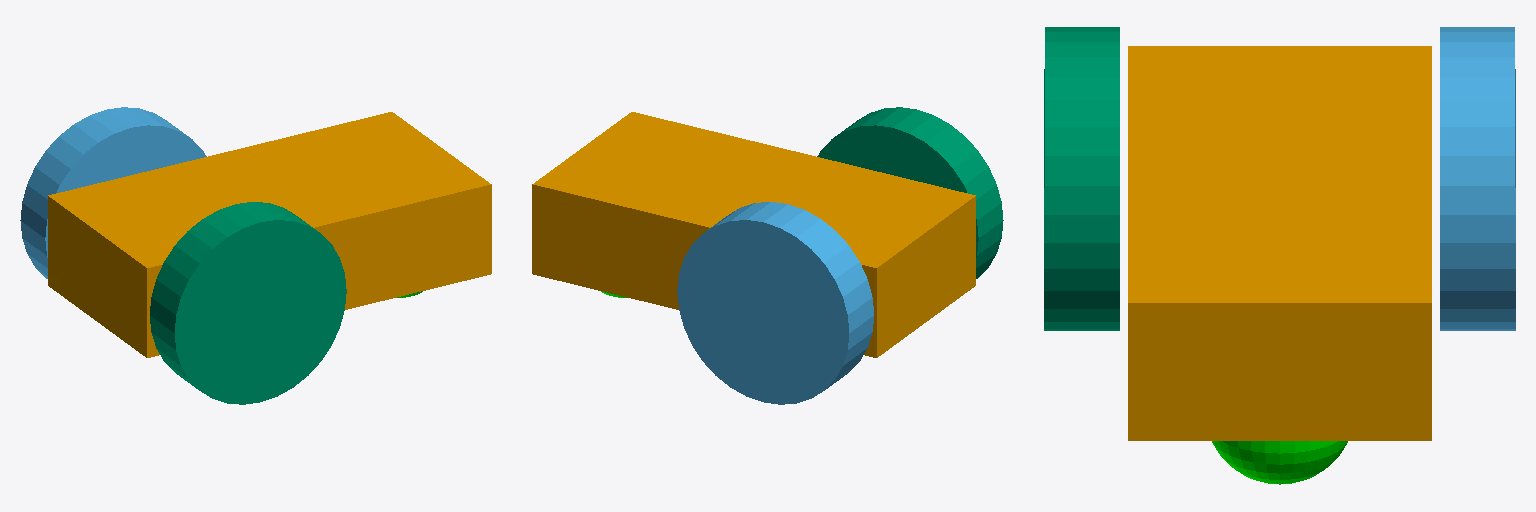
URDF robot description (my_robo):
<?xml version="1.0"?>
<robot name="my_robo" >
  <property name="M_PI" value="3.14159274"/>

  <link name="base_link">

    <visual>
      <geometry>
        <box size="0.400 0.200 0.100"/>
      </geometry>
    </visual>

    <collision>
      <geometry>
        <box size="0.400 0.200 0.100"/>
      </geometry>
    </collision>

    <inertial>
      <origin xyz="0 0 0"/>
      <mass value="0.500"/>
      <inertia ixx="0.0020833333" ixy="0" ixz="0" iyy="0.0070833333" iyz="0" izz="0.0083333333"/>
    </inertial>
  </link>

  <link name="left_wheel_link">
    <visual>
      <geometry>
        <cylinder radius="0.1" length="0.05"/>
      </geometry>
      <origin xyz="0 0 0" rpy="0 0 0"/>
      <material name="black"/>
    </visual>

    <collision>
      <geometry>
        <cylinder radius="0.1" length="0.05"/>
      </geometry>
    </collision>

    <inertial>
      <origin xyz="0 0 0"/>
      <mass value="0.500"/>
      <inertia ixx="0.0013541667" ixy="0" ixz="0" iyy="0.0013541667" iyz="0" izz="0.0025"/>
    </inertial>

  </link>

  <joint name="left_wheel_joint" type="continuous">
    <parent link="base_link"/>
    <child link="left_wheel_link"/>
    <origin rpy="-1.5707 0 0" xyz="-0.100 0.130 0"/>
    <axis xyz="0 0 1"/>
  </joint>

  <link name="right_wheel_link">
    <visual>
      <geometry>
        <cylinder radius="0.1" length="0.05"/>
      </geometry>
      <origin xyz="0 0 0" rpy="0 0 0"/>
      <material name="black"/>
    </visual>

    <collision>
      <geometry>
        <cylinder radius="0.1" length="0.05"/>
      </geometry>
    </collision>

    <inertial>
      <origin xyz="0 0 0"/>
      <mass value="0.500"/>
      <inertia ixx="0.0013541667" ixy="0" ixz="0" iyy="0.0013541667" iyz="0" izz="0.0025"/>
    </inertial>

  </link>

  <joint name="right_wheel_joint" type="continuous">
    <parent link="base_link"/>
    <child link="right_wheel_link"/>
    <origin rpy="1.5707 0 0" xyz="-0.100 -0.130 0"/>
    <axis xyz="0 0 -1"/>
  </joint>

  <link name="caster_link">
    <visual>
      <geometry>
        <sphere radius="0.05"/>
      </geometry>
      <material name="green">
        <color rgba="0 1 0 1"/>
      </material>
    </visual>

    <collision>
      <geometry>
        <sphere radius="0.05"/>
      </geometry>
    </collision>

    <inertial>
      <origin xyz="0 0 0"/>
      <mass value="0.500"/>
      <inertia ixx="0.00025" ixy="0" ixz="0" iyy="0.00025"  iyz="0" izz="0.00025"/>
    </inertial>

  </link>

  <joint name="caster_joint" type="fixed">
    <parent link="base_link"/>
    <child link="caster_link"/>
    <origin xyz="0.150 0 -0.050"/>
  </joint>

  <link name="base_footprint"/>
  <joint name="base_link_joint" type="fixed">
    <parent link="base_footprint"/>
    <child link="base_link"/>
    <origin xyz="0 0 0.100"/>
  </joint>

  <!-- Hokuyo Laser -->
  <link name="hokuyo_link">
    <collision>
      <origin xyz="0 0 0" rpy="0 0 0"/>
      <geometry>
        <box size="0.1 0.1 0.1"/>
      </geometry>
    </collision>

    <visual>
      <origin xyz="0 0 0" rpy="0 0 0"/>
      <geometry>
        <mesh filename="package://rrbot_description/meshes/hokuyo.dae"/>
      </geometry>
    </visual>

    <inertial>
      <mass value="1e-5" />
      <origin xyz="0 0 0" rpy="0 0 0"/>
      <inertia ixx="1e-6" ixy="0" ixz="0" iyy="1e-6" iyz="0" izz="1e-6" />
    </inertial>
  </link>
  <joint name="hokuyo_joint" type="fixed">
    <axis xyz="0 1 0" />
    <origin xyz="0.2 0 0.07" rpy="0 0 0"/>
    <parent link="base_link"/>
    <child link="hokuyo_link"/>
  </joint>


  <!-- ===============  Transmission =============== -->
  <transmission name="left_wheel_trans">
    <type>transmission_interface/SimpleTransmission</type>
    <joint name="left_wheel_joint">
      <hardwareInterface>VelocityJointInterface</hardwareInterface>
    </joint>
    <actuator name="left_wheel_motor">
      <hardwareInterface>VelocityJointInterface</hardwareInterface>
      <mechanicalReduction>30</mechanicalReduction>
    </actuator>
  </transmission>
  <transmission name="right_wheel_trans">
    <type>transmission_interface/SimpleTransmission</type>
    <joint name="right_wheel_joint">
      <hardwareInterface>VelocityJointInterface</hardwareInterface>
    </joint>
    <actuator name="right_wheel_motor">
      <hardwareInterface>VelocityJointInterface</hardwareInterface>
      <mechanicalReduction>30</mechanicalReduction>
    </actuator>
  </transmission>

  <!-- =============== Gazebo =============== -->
  <gazebo>
    <plugin name="gazebo_ros_control" filename="libgazebo_ros_control.so">
      <robotNamespace>my_robo</robotNamespace>
    </plugin>
  </gazebo>

  <gazebo reference="base_link">
    <selfCollide>true</selfCollide>
    <mu1 value="0.05" />
    <mu2 value="0.05" />
  </gazebo>

  <gazebo reference="left_wheel_link">
    <selfCollide>true</selfCollide>
    <mu1 value="0.8" />
    <mu2 value="0.8" />
  </gazebo>

  <gazebo reference="right_wheel_link">
    <selfCollide>true</selfCollide>
    <mu1 value="0.8" />
    <mu2 value="0.8" />
  </gazebo>

  <gazebo reference="caster_link">
    <selfCollide>true</selfCollide>
    <!-- This caster is no frictional resistance. -->
    <mu1 value="0.0" />
    <mu2 value="0.0" />
  </gazebo>

  <!-- hokuyo -->
  <gazebo reference="hokuyo_link">
    <sensor type="ray" name="head_hokuyo_sensor">
      <pose>0 0 0 0 0 0</pose>
      <visualize>true</visualize>
      <update_rate>40</update_rate>
      <ray>
        <scan>
          <horizontal>
            <samples>720</samples>
            <resolution>1</resolution>
            <min_angle>-1.570796</min_angle>
            <max_angle>1.570796</max_angle>
          </horizontal>
        </scan>
        <range>
          <min>0.10</min>
          <max>30.0</max>
          <resolution>0.01</resolution>
        </range>
        <noise>
          <type>gaussian</type>
          <!-- Noise parameters based on published spec for Hokuyo laser
               achieving "+-30mm" accuracy at range < 10m.  A mean of 0.0m and
               stddev of 0.01m will put 99.7% of samples within 0.03m of the true
               reading. -->
          <mean>0.0</mean>
          <stddev>0.01</stddev>
        </noise>
      </ray>
      <plugin name="gazebo_ros_head_hokuyo_controller" filename="libgazebo_ros_laser.so">
        <topicName>/rrbot/laser/scan</topicName>
        <frameName>hokuyo_link</frameName>
      </plugin>
    </sensor>
  </gazebo>

</robot>

--- What the picture shows (computed from the rendered views, not written in the file) ---
3 views of the same robot in one strip: view 1: azimuth 30°, elevation 25°; view 2: azimuth 150°, elevation 25°; view 3: azimuth 270°, elevation 25° (orthographic).
Robot: my_robo — 6 links, 5 joints (2 continuous, 3 fixed); root link base_footprint; default pose: all joints at 0.
Links seen in each view (by area): view 1: base_link, right_wheel_link, left_wheel_link; view 2: base_link, left_wheel_link, right_wheel_link; view 3: base_link, left_wheel_link, right_wheel_link, caster_link.
Boxes of the visible links, x1,y1,x2,y2 form: base_link: (48, 112, 491, 357); right_wheel_link: (150, 202, 346, 404); left_wheel_link: (20, 107, 206, 278); base_link: (532, 112, 975, 357); left_wheel_link: (677, 202, 873, 404); right_wheel_link: (817, 107, 1003, 278); base_link: (1128, 46, 1431, 440); left_wheel_link: (1440, 27, 1515, 330); right_wheel_link: (1044, 27, 1119, 330); caster_link: (1212, 441, 1347, 484).
Bounding box of the posed robot: 0.4 × 0.31 × 0.2 m (x, y, z).
0 mesh visuals loaded from 1 distinct referenced files (none loaded); not drawn: 1 (reference not matched to a file when rendering).
